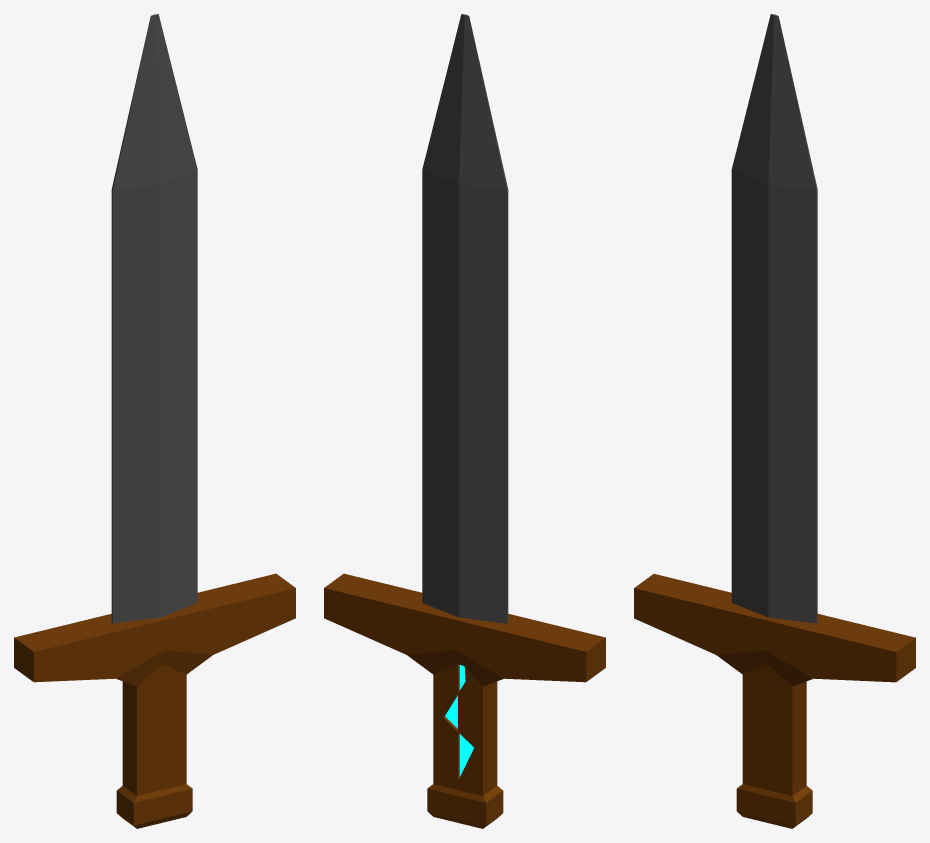
Rendered from swordEasy.glb.
The picture shows the model from 3 angles, left to right: view 1: azimuth 30°, elevation 25°; view 2: azimuth 150°, elevation 25°; view 3: azimuth 330°, elevation 25°; orthographic projection.
Visible parts, largest first — view 1: Cube; view 2: Cube; view 3: Cube.
Part boxes in pixels (<box>): Cube: <box>14,14,295,828</box>; Cube: <box>324,14,605,828</box>; Cube: <box>634,14,915,828</box>.
Size of the model in its own units: 2.11 by 6.19 by 0.275.
